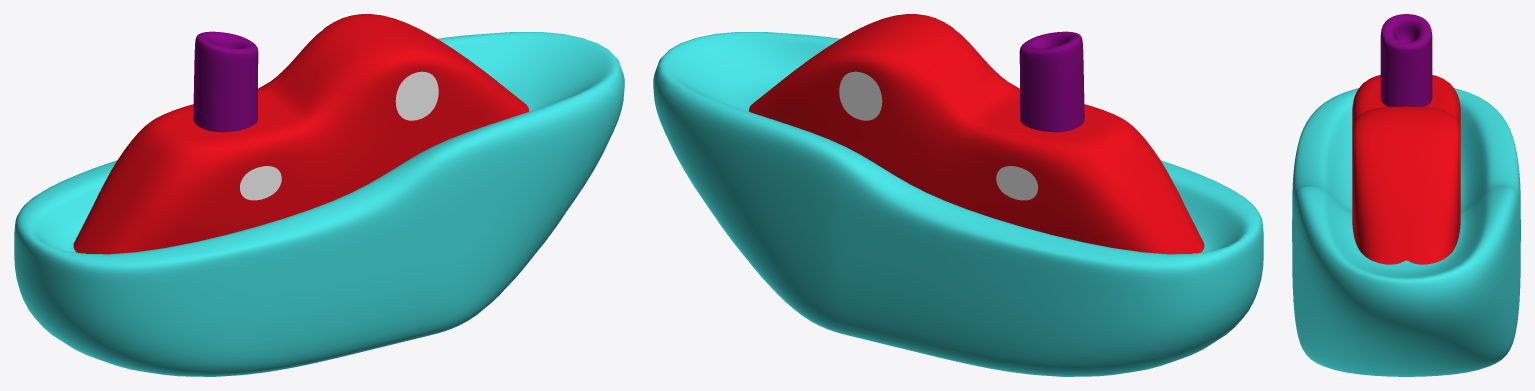
Rendered from boat.glb.
3 renders of one model, left to right at view 1: azimuth 30°, elevation 25°; view 2: azimuth 150°, elevation 25°; view 3: azimuth 270°, elevation 25°, orthographic. The views are drawn at different scales.
Visible parts, largest first — view 1: Boat, Boat.001, Boat.002, Window2, Window1; view 2: Boat, Boat.001, Boat.002, Window2, Window1; view 3: Boat, Boat.001, Boat.002.
Boxes of the visible parts, bbox=[...] form: Boat: bbox=[14, 32, 624, 376]; Boat.001: bbox=[73, 14, 528, 254]; Boat.002: bbox=[193, 31, 258, 132]; Window2: bbox=[395, 71, 438, 120]; Window1: bbox=[240, 166, 281, 200]; Boat: bbox=[653, 32, 1263, 376]; Boat.001: bbox=[749, 14, 1204, 254]; Boat.002: bbox=[1019, 31, 1084, 132]; Window2: bbox=[839, 71, 882, 120]; Window1: bbox=[996, 166, 1037, 200]; Boat: bbox=[1292, 88, 1520, 376]; Boat.001: bbox=[1352, 75, 1460, 264]; Boat.002: bbox=[1380, 14, 1432, 106].
Bounding box in the file's own units: 0.1287 × 0.0632 × 0.05.
